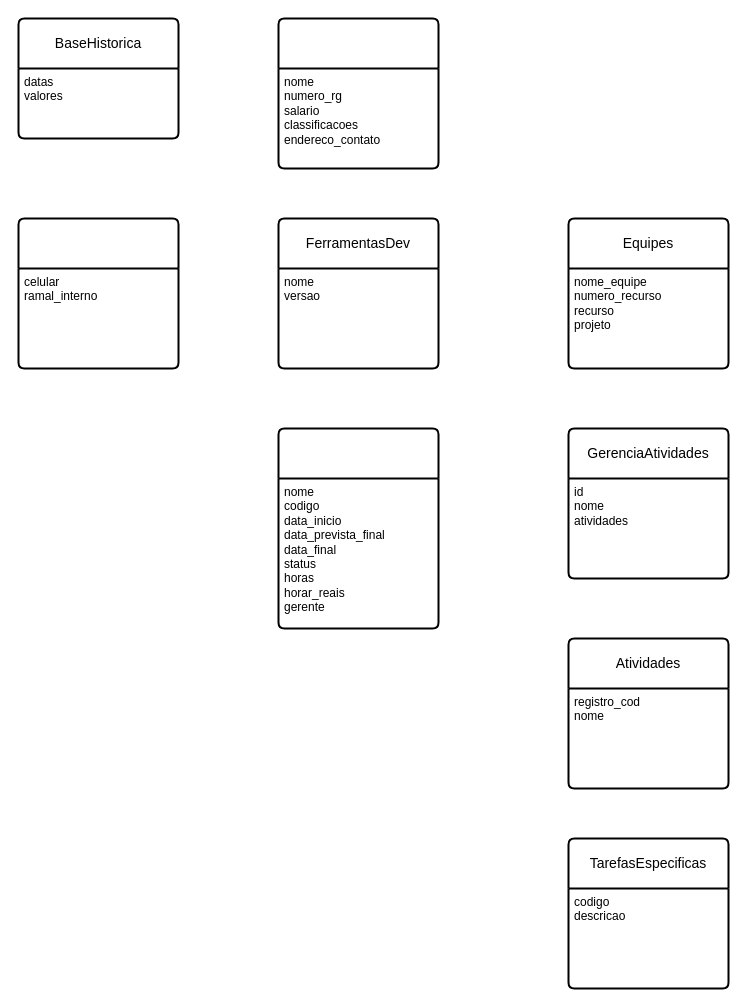
The diagram is 746 pixels wide and 1006 high, and some of its shapes have lost their labels. Each missing label, with the box of its shape:
Contatos: (17, 217, 179, 369)
Projetos: (277, 427, 439, 629)
RecursosInfo: (277, 17, 439, 169)
